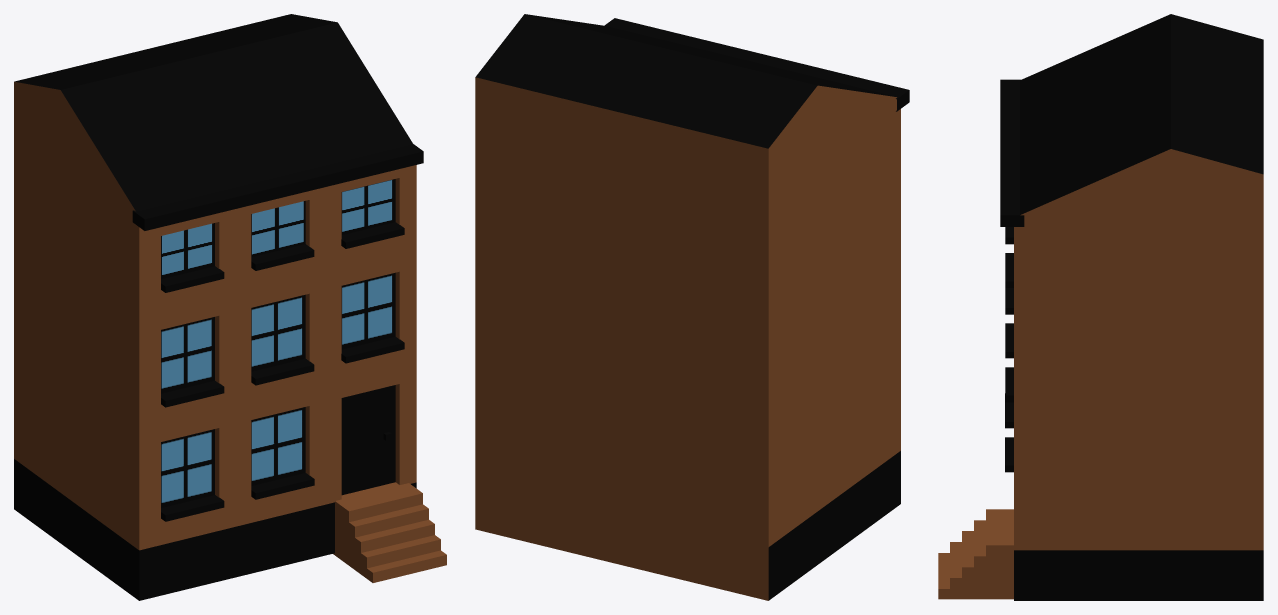
File: kamienica1.obj
The picture shows the model from 3 angles, left to right: view 1: azimuth 30°, elevation 25°; view 2: azimuth 150°, elevation 25°; view 3: azimuth 270°, elevation 25°; orthographic projection. The views are drawn at different scales.
Visible parts, largest first — view 1: kamienica1; view 2: kamienica1; view 3: kamienica1.
Boxes of the visible parts, x1=… form: kamienica1: x1=14, y1=14, x2=446, y2=600; kamienica1: x1=475, y1=14, x2=909, y2=600; kamienica1: x1=938, y1=14, x2=1263, y2=600.
Size of the model in its own units: 6 by 9.37 by 6.09.
1 material, 1 textured.
